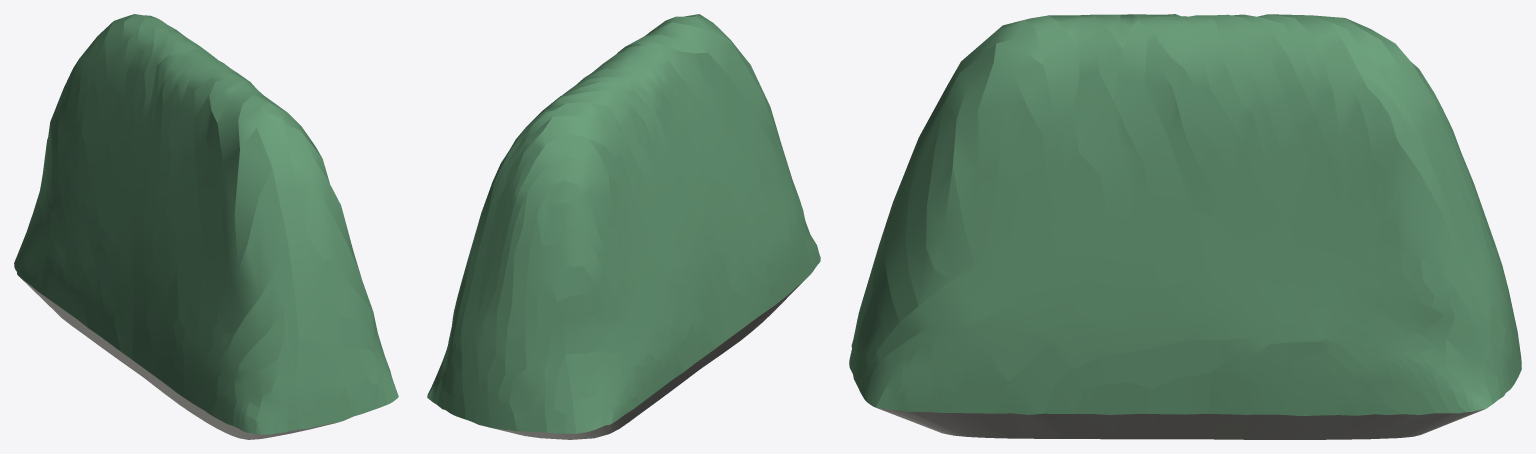
Rendered from island_asian_C.fbx.
The picture shows the model from 3 angles, left to right: view 1: azimuth 30°, elevation 25°; view 2: azimuth 150°, elevation 25°; view 3: azimuth 270°, elevation 25°; orthographic projection. The views are drawn at different scales.
Visible parts, largest first — view 1: island_asian_C; view 2: island_asian_C; view 3: island_asian_C.
Part boxes in pixels (left/top/right/bottom): island_asian_C: left=14, top=14, right=398, bottom=439; island_asian_C: left=427, top=14, right=820, bottom=439; island_asian_C: left=849, top=14, right=1521, bottom=439.
Bounding box in the file's own units: 1384 × 2255 × 3639.
